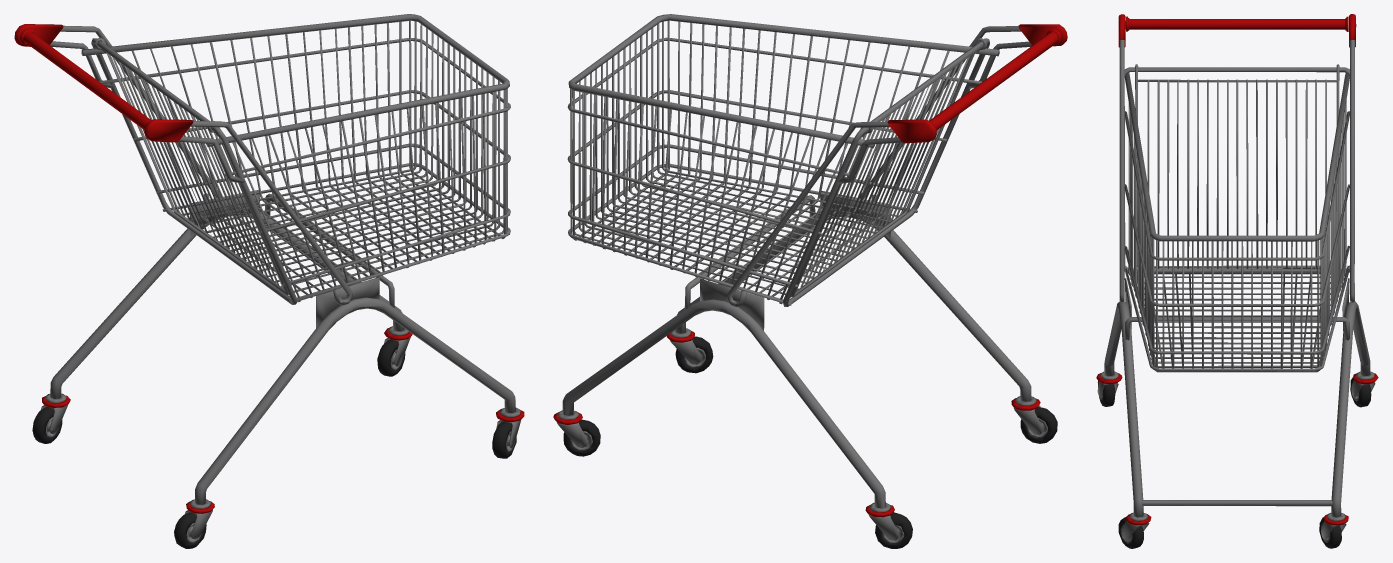
Rendered from Handcart.fbx.
The picture shows the model from 3 angles, left to right: view 1: azimuth 30°, elevation 25°; view 2: azimuth 150°, elevation 25°; view 3: azimuth 270°, elevation 25°; orthographic projection. The views are drawn at different scales.
Visible parts, largest first — view 1: cgaxis_models_32_22_15; view 2: cgaxis_models_32_22_15; view 3: cgaxis_models_32_22_15.
Part boxes in pixels (x1,y1,x2,y2): cgaxis_models_32_22_15: (14,14,524,548); cgaxis_models_32_22_15: (553,14,1067,548); cgaxis_models_32_22_15: (1096,14,1378,548).
Size of the model in its own units: 88.29 by 93.22 by 62.93.
